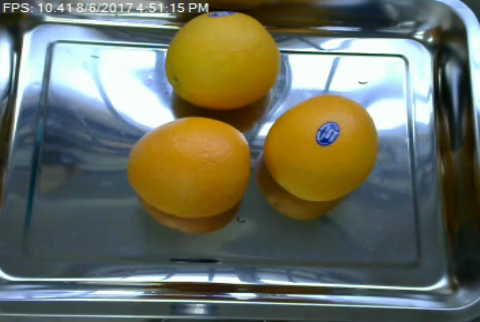Orange: (126, 117, 249, 217), (262, 95, 377, 200), (165, 11, 282, 108)
